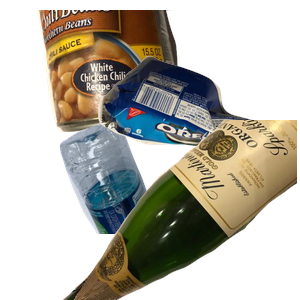glass: (60, 120, 300, 300)
metal: (34, 10, 213, 135)
plastic: (57, 120, 284, 300)
trash: (95, 53, 300, 195)
